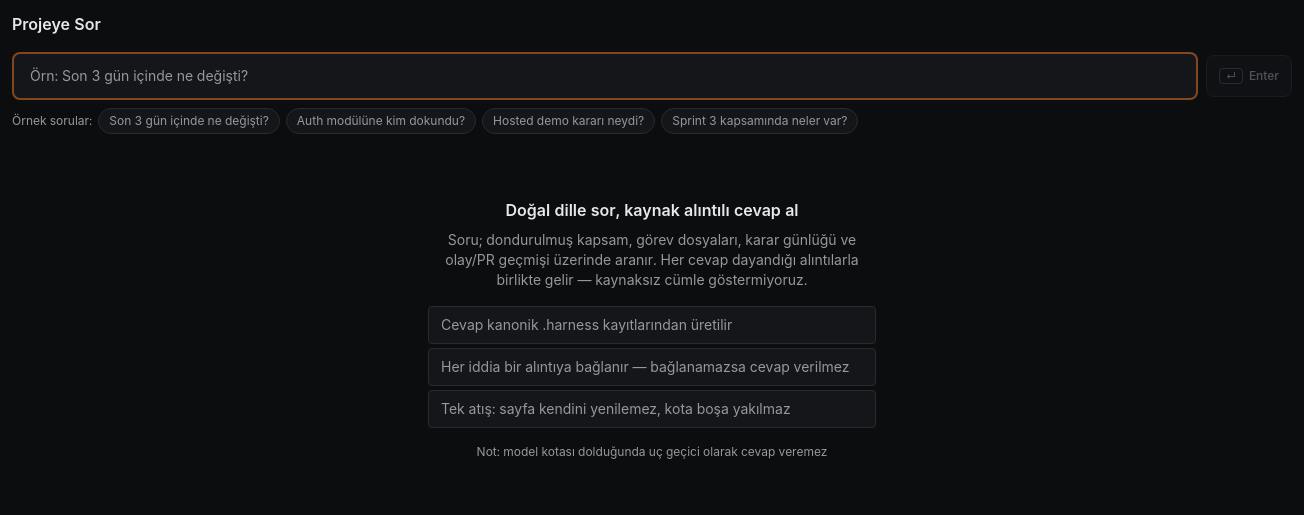
Test: AskPage — Takip önerileri (#319, cevabın altında) › not_found cevapta (citations BOŞ) takip 'nearest'ten türer
In the field named "Projeye sorulacak soru": (605, 76) [12,52,1198,100], type "Rastgele bir şey?"
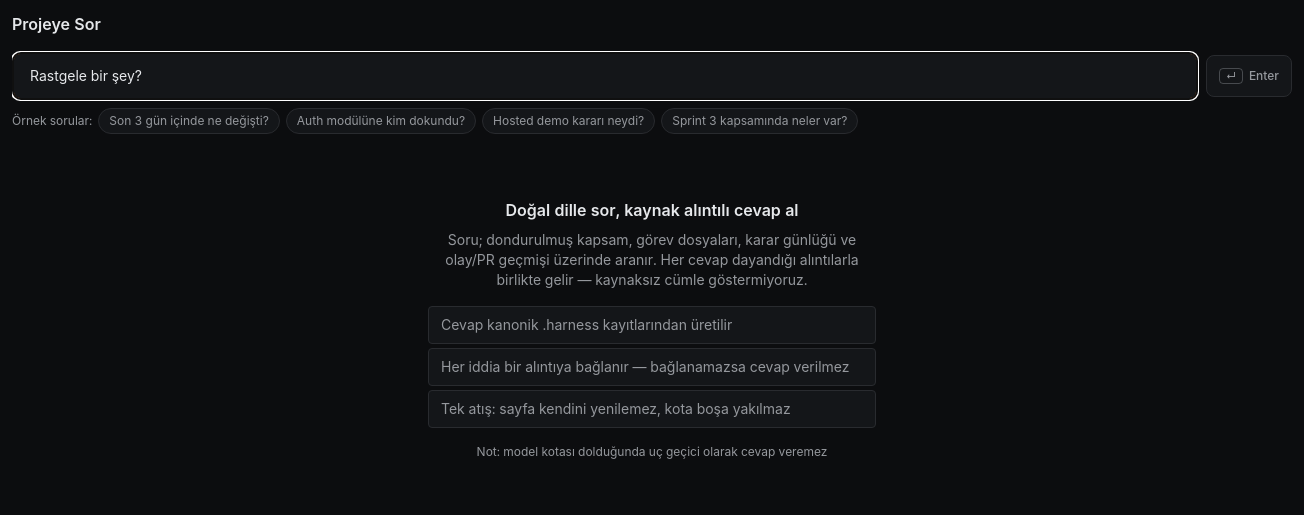
Click the button with aria-label "Soruyu gönder": (1249, 76) [1206,55,1292,97]
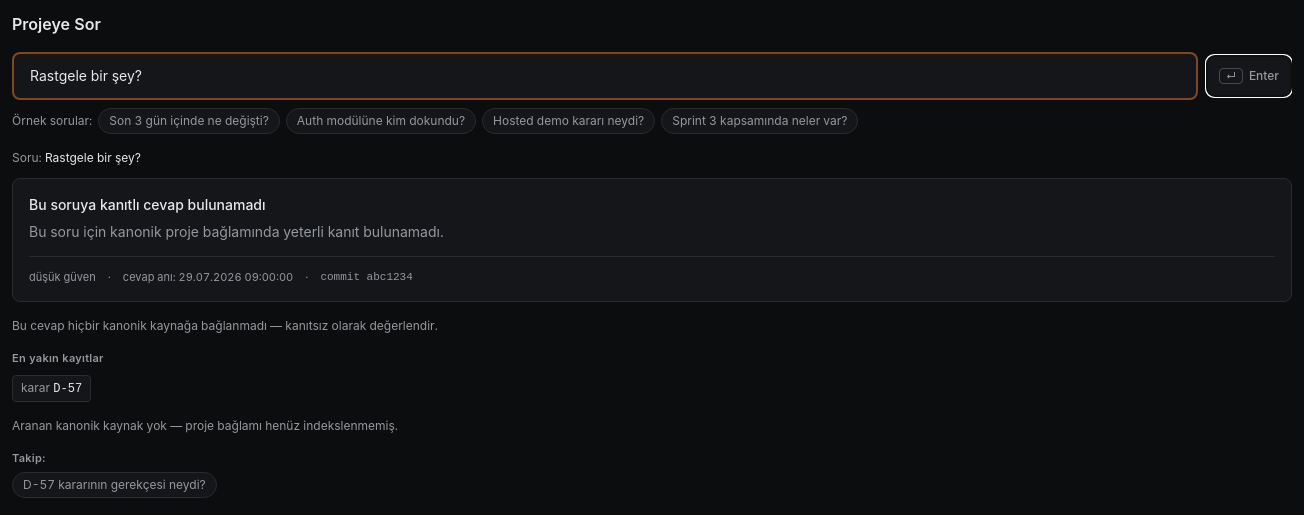
Expected: the button "D-57 kararının gerekçesi neydi?" is shown, [12,472,217,498]
